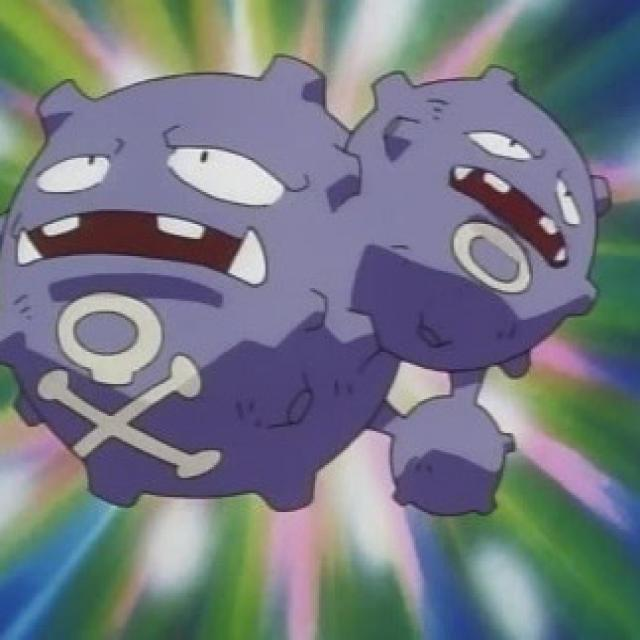Weezing: (5, 57, 609, 520)
